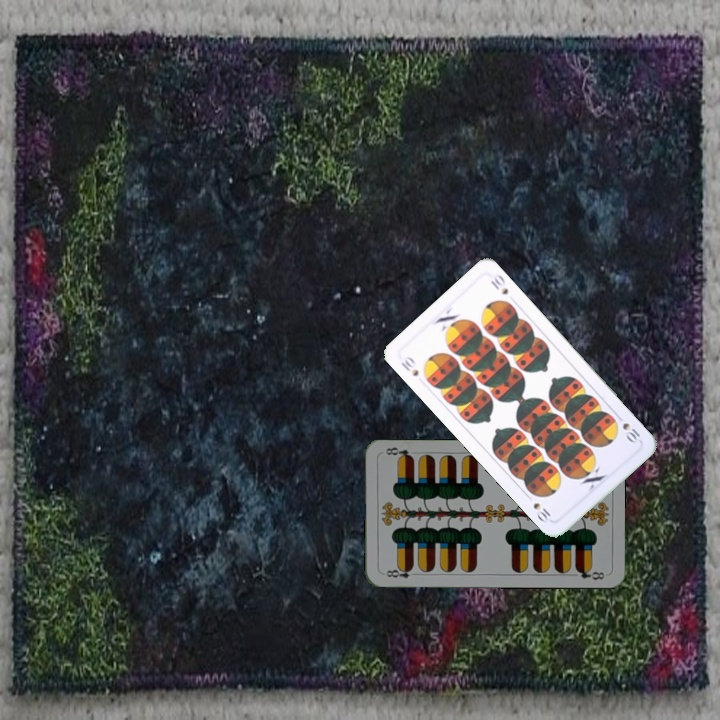E8: (379, 563, 420, 580)
S10: (612, 410, 643, 446), (397, 352, 421, 379)
